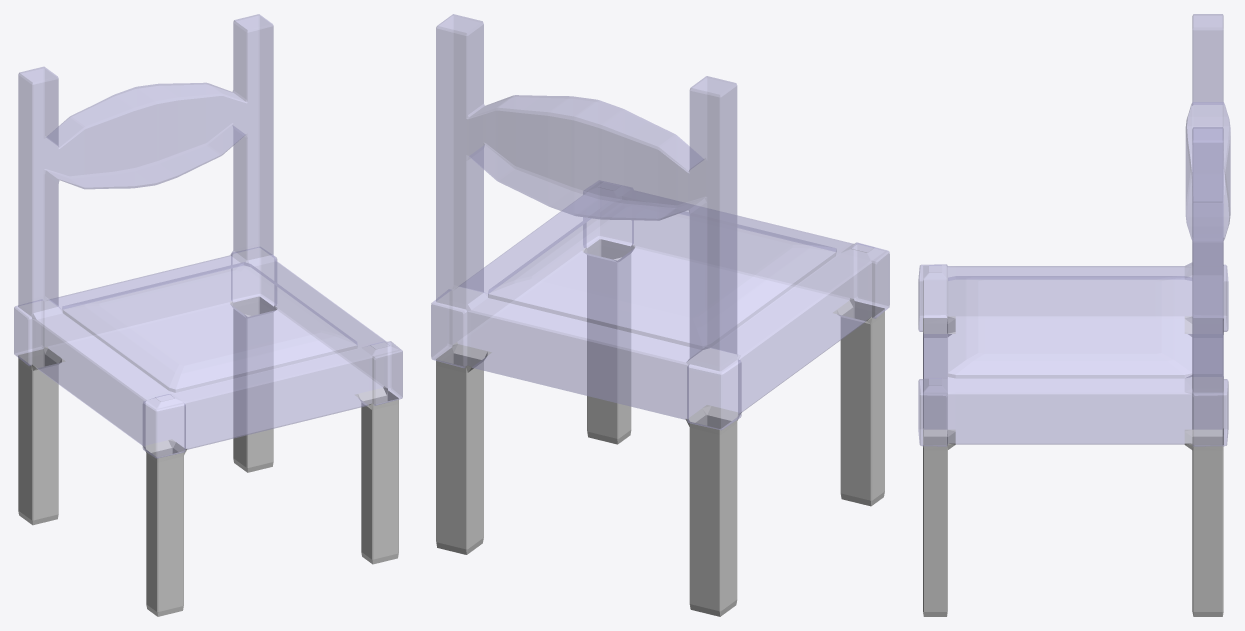
File: chair16.fbx
3 renders of one model, left to right at view 1: azimuth 30°, elevation 25°; view 2: azimuth 150°, elevation 25°; view 3: azimuth 270°, elevation 25°, orthographic. The views are drawn at different scales.
Parts seen in each view (by area): view 1: Chair16; view 2: Chair16; view 3: Chair16.
Part boxes in pixels (left/top/right/bottom): Chair16: left=14, top=14, right=402, bottom=616; Chair16: left=431, top=14, right=889, bottom=616; Chair16: left=918, top=14, right=1230, bottom=616.
Size of the model in its own units: 59.11 by 100 by 59.52.
